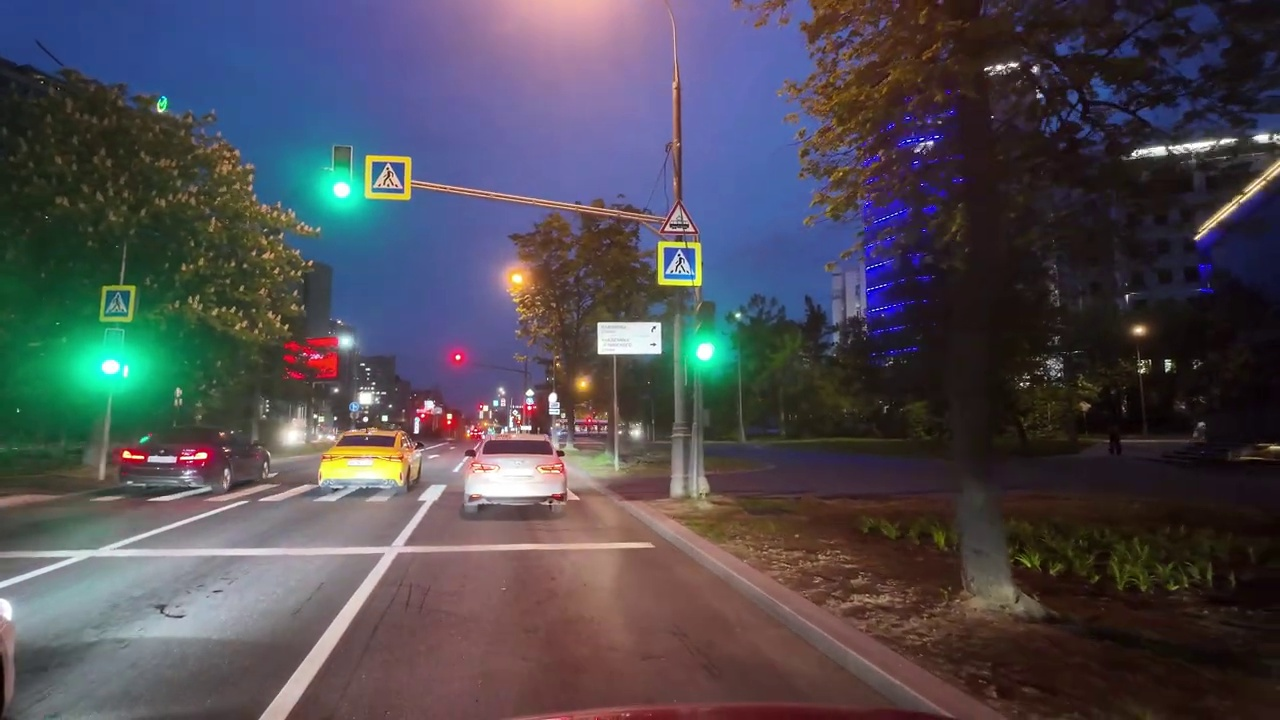acesa: (506, 265, 533, 295), (446, 345, 470, 368), (572, 374, 594, 396)
